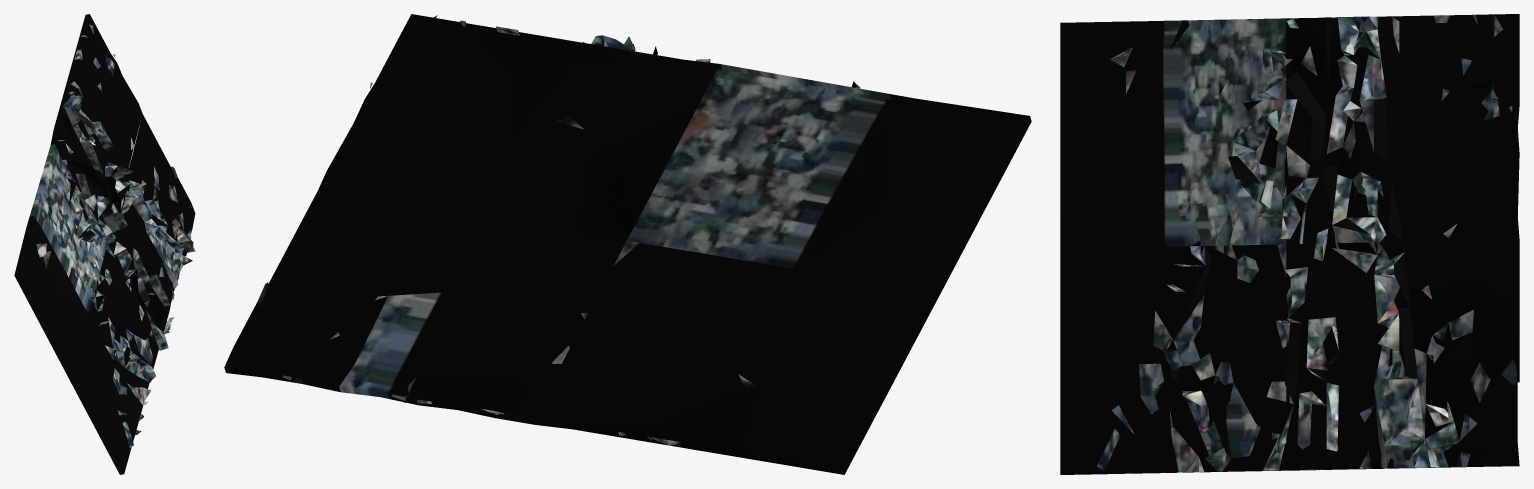
3 renders of one model, left to right at view 1: azimuth 30°, elevation 25°; view 2: azimuth 150°, elevation 25°; view 3: azimuth 270°, elevation 25°, orthographic. The views are drawn at different scales.
Visible parts, largest first — view 1: node_304362727043617_mesh0; view 2: node_304362727043617_mesh0; view 3: node_304362727043617_mesh0.
Part boxes in pixels (box(x1,y1,x2,y2)): node_304362727043617_mesh0: box(14, 14, 195, 474); node_304362727043617_mesh0: box(224, 14, 1031, 474); node_304362727043617_mesh0: box(1060, 14, 1519, 474).
Size of the model in its own units: 1159 by 1164 by 886.
1 material, 1 textured.
